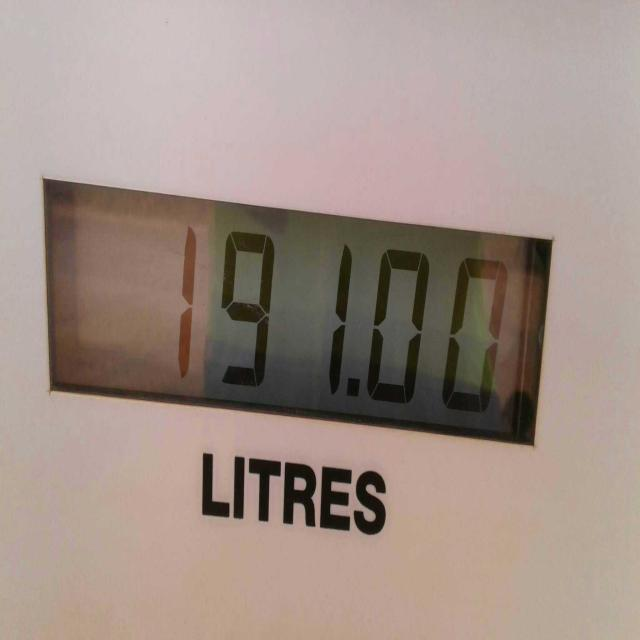.: (344, 371, 365, 412)
0: (361, 243, 436, 424), (441, 249, 514, 421)
1: (159, 216, 213, 383), (325, 232, 351, 412)
9: (214, 226, 275, 408)
